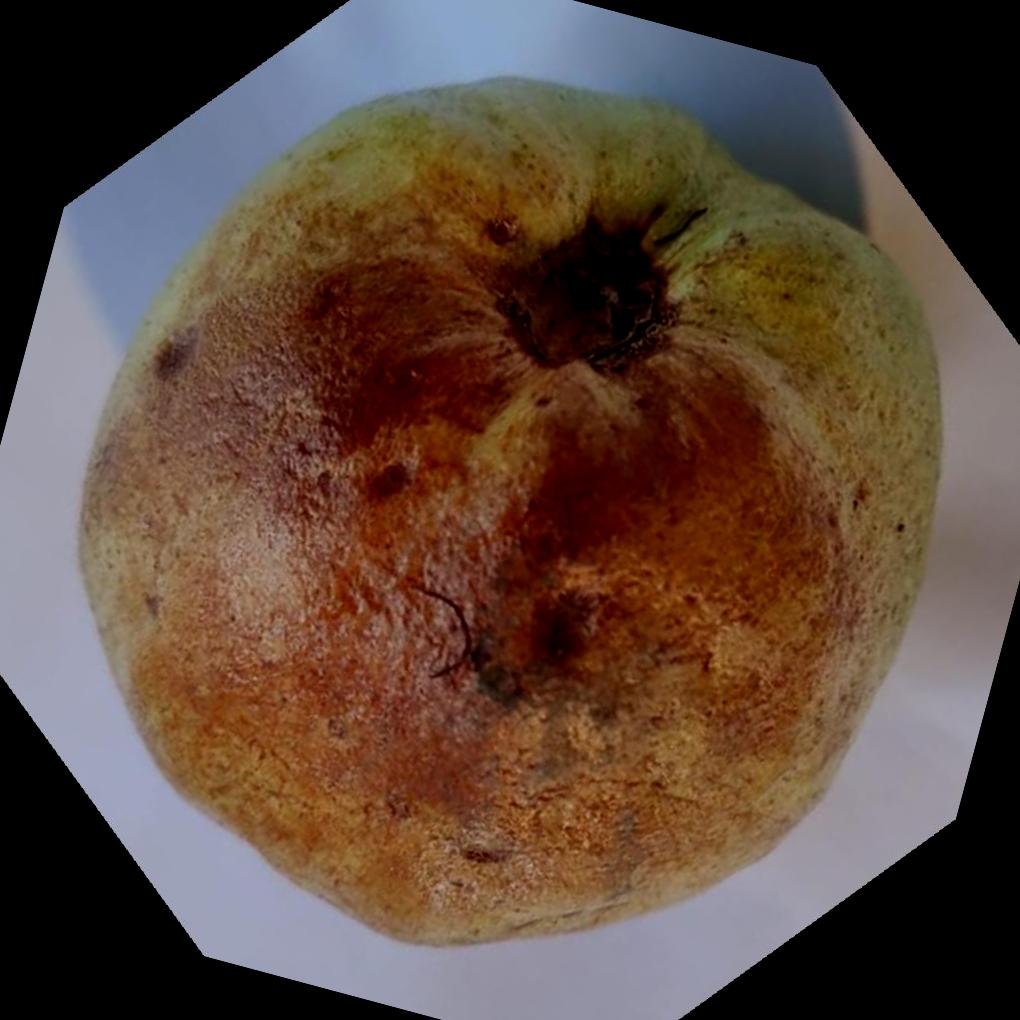FreshOrange: (76, 74, 946, 950)
